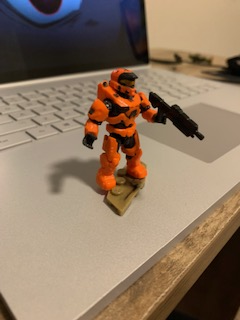rifle: (147, 88, 206, 145)
spartan: (82, 67, 168, 195)
